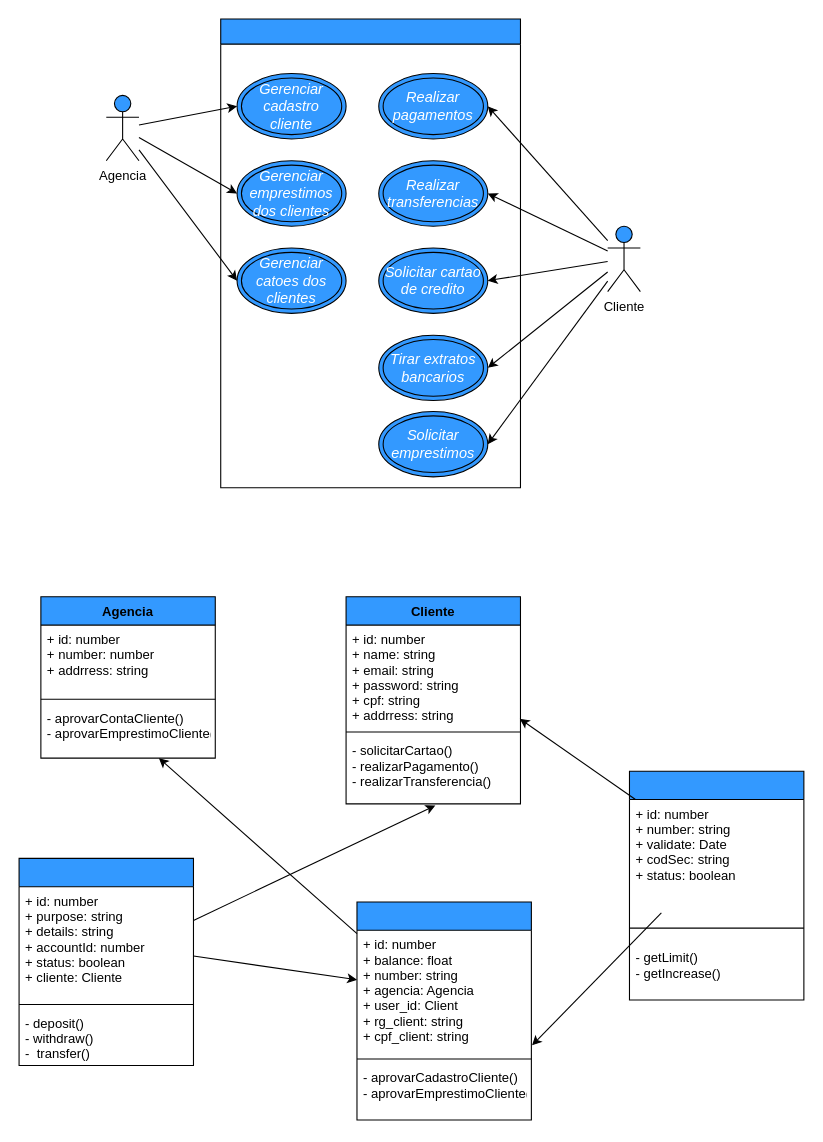
The diagram is 823 pixels wide and 1142 high, and some of its shapes have lost their labels. The shapes that lost their labels are listed below. From the top down, each one's box as (x1, y1, x2, y2) in pixels, then its label:
(220, 18, 520, 488): Sistema
(628, 770, 804, 1000): Cartao
(18, 857, 193, 1065): Emprestimo
(356, 901, 531, 1120): Conta
